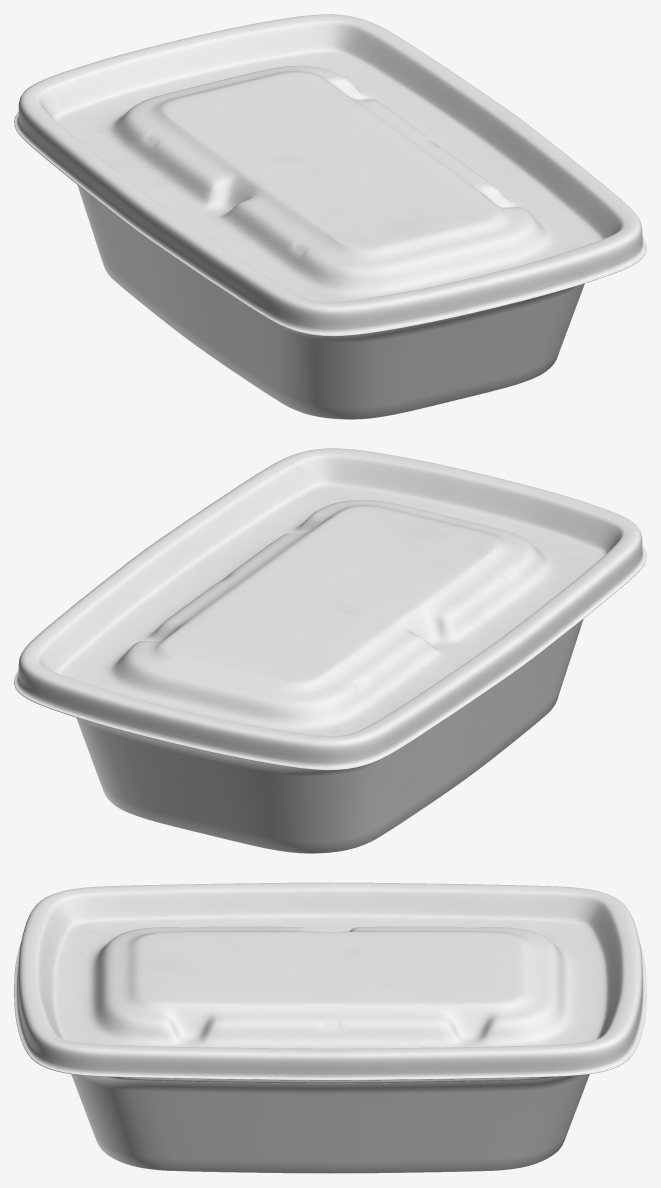
File: BA-CFH-700-salad-box-clean-transformed.glb
3 renders of one model, top to bottom at view 1: azimuth 30°, elevation 25°; view 2: azimuth 150°, elevation 25°; view 3: azimuth 270°, elevation 25°, orthographic. The views are drawn at different scales.
Parts seen in each view (by area): view 1: Bottom; view 2: Bottom; view 3: Bottom.
Part boxes in pixels (bbox=[...]): Bottom: bbox=[14, 14, 646, 419]; Bottom: bbox=[14, 448, 646, 853]; Bottom: bbox=[14, 882, 646, 1173].
Bounding box in the file's own units: 0.1278 × 0.048 × 0.192.
1 material, 1 textured.
